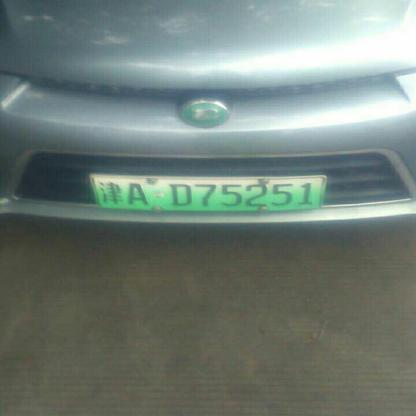lp: (90, 176, 325, 209)
